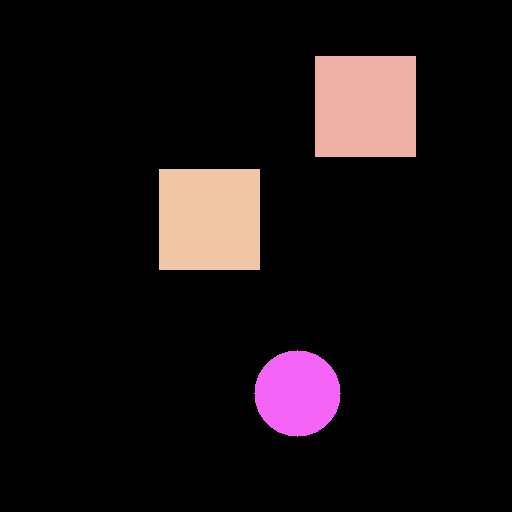circle: (254, 350, 340, 436)
square: (159, 169, 259, 269), (315, 56, 415, 156)
